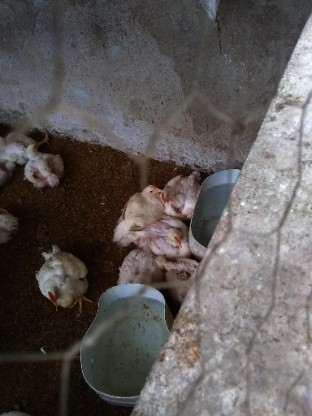Pollos: (37, 240, 91, 317), (142, 216, 200, 258), (112, 251, 163, 298), (166, 162, 208, 218), (26, 138, 66, 190), (118, 179, 166, 221), (156, 253, 197, 301), (6, 119, 28, 171), (0, 207, 20, 246)
